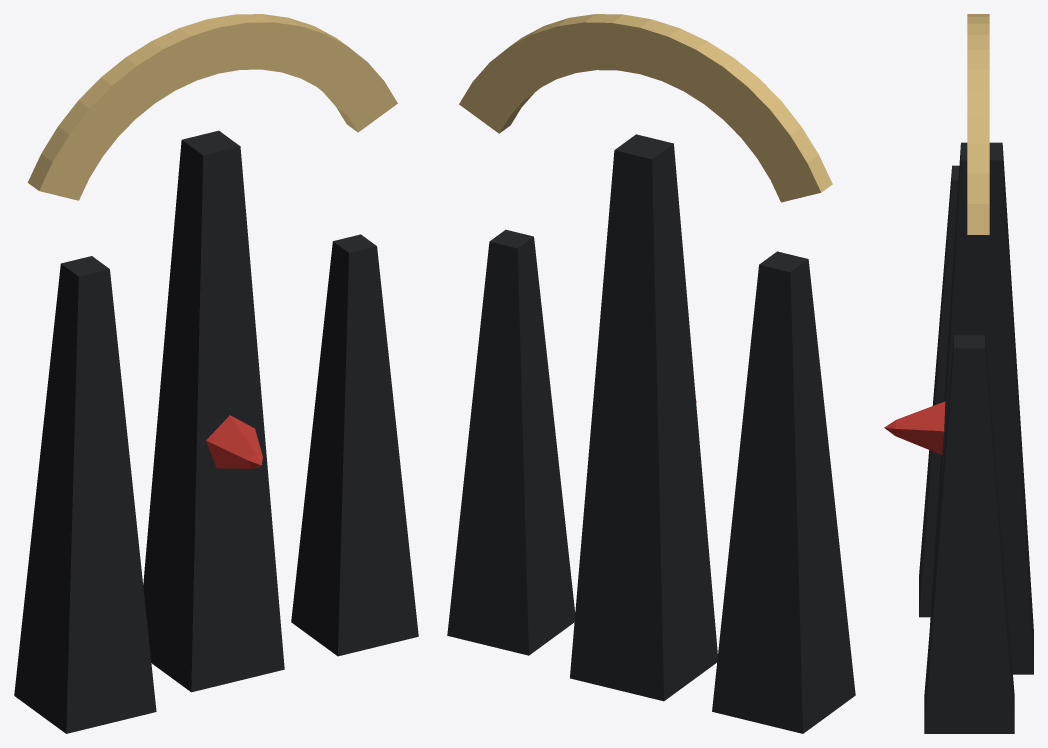
Rendered from TriSpireReliquary.glb.
3 renders of one model, left to right at view 1: azimuth 30°, elevation 25°; view 2: azimuth 150°, elevation 25°; view 3: azimuth 270°, elevation 25°, orthographic. The views are drawn at different scales.
Parts seen in each view (by area): view 1: TriSpireReliquary; view 2: TriSpireReliquary; view 3: TriSpireReliquary.
Part boxes in pixels (x1,y1,x2,y2): TriSpireReliquary: (14,14,418,733); TriSpireReliquary: (447,14,855,733); TriSpireReliquary: (884,14,1033,733).
Size of the model in its own units: 0.3263 by 0.56 by 0.122.
